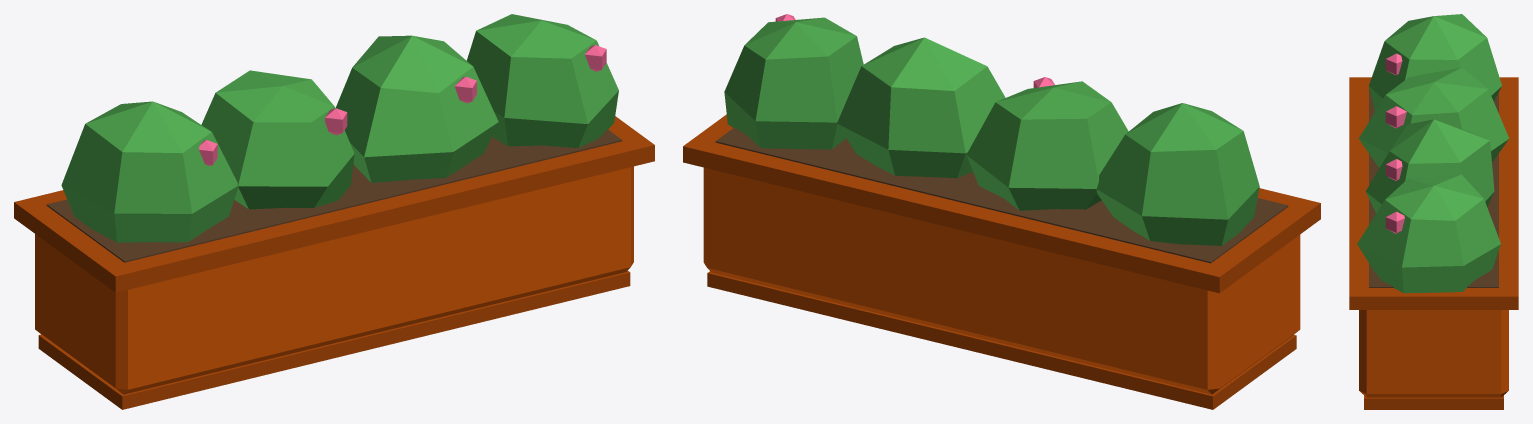
Rendered from plantBox.glb.
The picture shows the model from 3 angles, left to right: view 1: azimuth 30°, elevation 25°; view 2: azimuth 150°, elevation 25°; view 3: azimuth 270°, elevation 25°; orthographic projection. The views are drawn at different scales.
Parts seen in each view (by area): view 1: plantBox-m; view 2: plantBox-m; view 3: plantBox-m.
Boxes of the visible parts, box(x1,y1,x2,y2) form: plantBox-m: box(14, 14, 654, 409); plantBox-m: box(683, 14, 1320, 409); plantBox-m: box(1349, 14, 1518, 409).
Bounding box in the file's own units: 2.08 × 0.9683 × 0.68.
